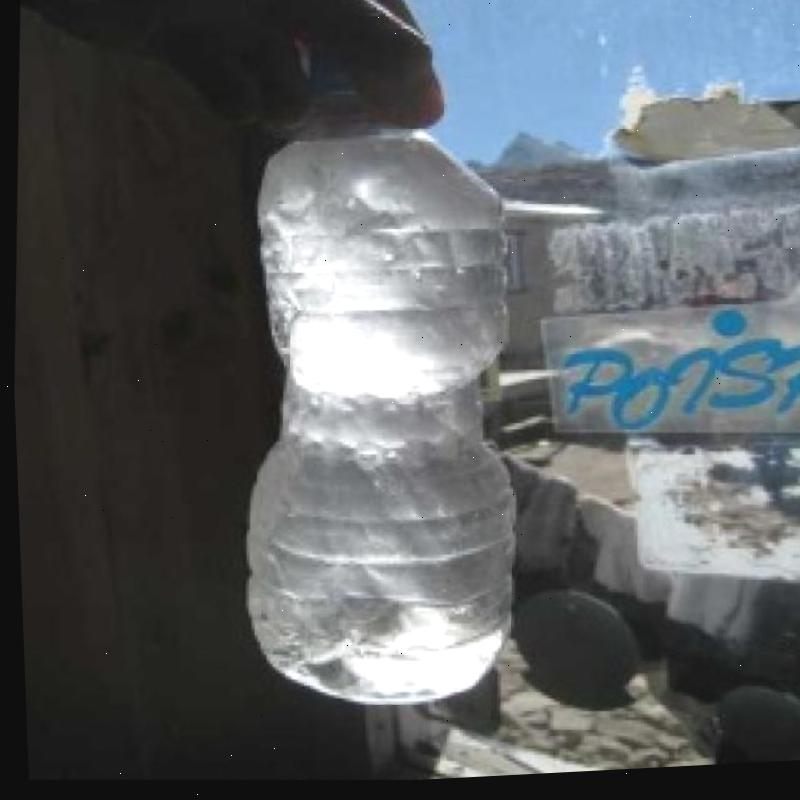botella: (213, 37, 541, 723)
